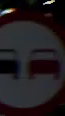No overtake: (0, 7, 62, 110)
